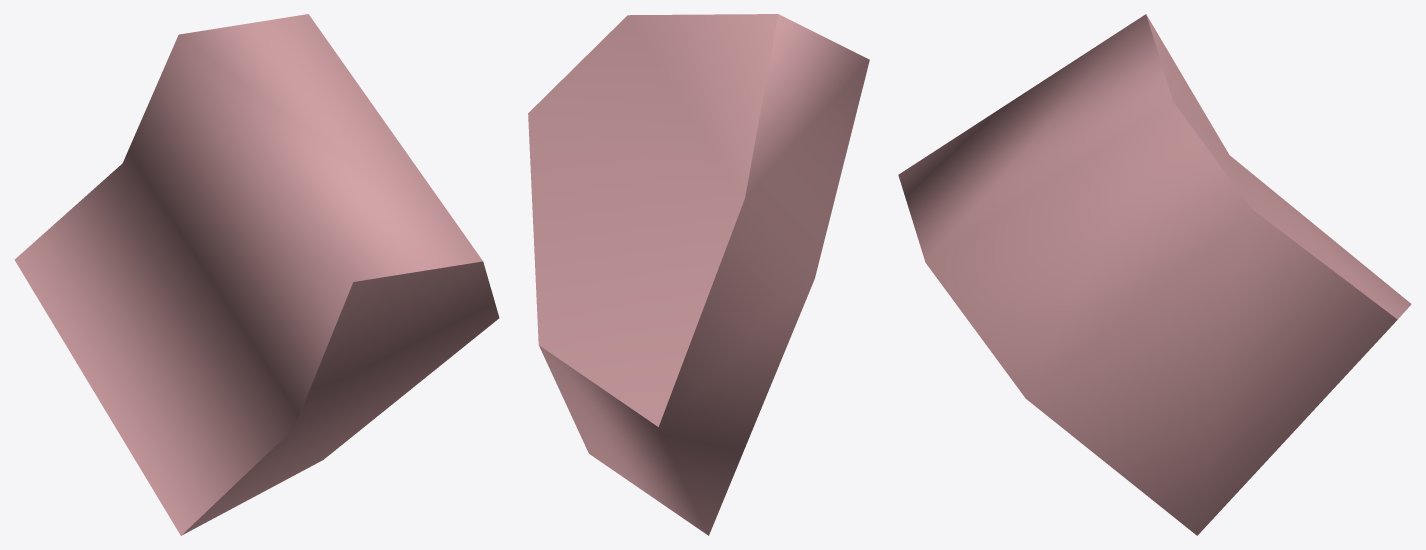
3 renders of one model, left to right at view 1: azimuth 30°, elevation 25°; view 2: azimuth 150°, elevation 25°; view 3: azimuth 270°, elevation 25°, orthographic. The views are drawn at different scales.
Visible parts, largest first — view 1: ZA_0ca7591cf4e102f4; view 2: ZA_0ca7591cf4e102f4; view 3: ZA_0ca7591cf4e102f4.
Boxes of the visible parts, <box> form: ZA_0ca7591cf4e102f4: <box>14,14,499,535</box>; ZA_0ca7591cf4e102f4: <box>528,14,869,535</box>; ZA_0ca7591cf4e102f4: <box>898,14,1411,535</box>.
Size of the model in its own units: 0.00291 by 0.00546 by 0.00519.
